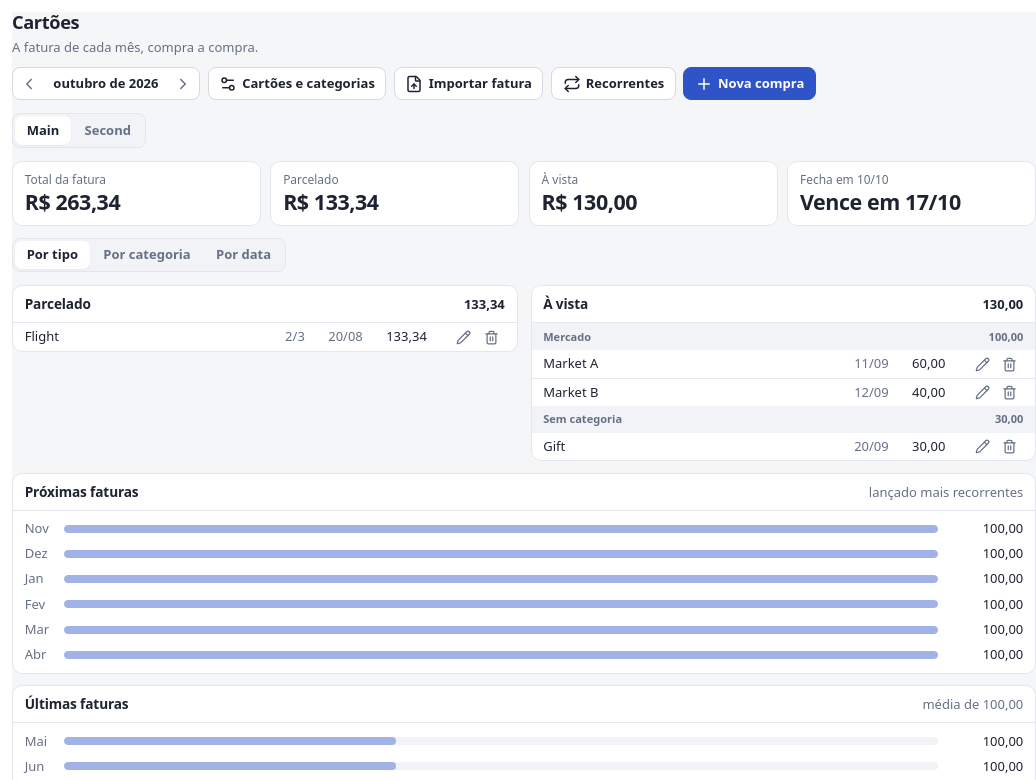
Scenario: CardsPage › walks through the invoices and keeps the month when the card changes
Expected: the element "Parcelado" is shown, [12, 285, 518, 352]
What coordinates should you click on to do the following:
click the button named "Próxima fatura"
I would click on:
 (183, 84)
Its box is [170, 70, 197, 97].
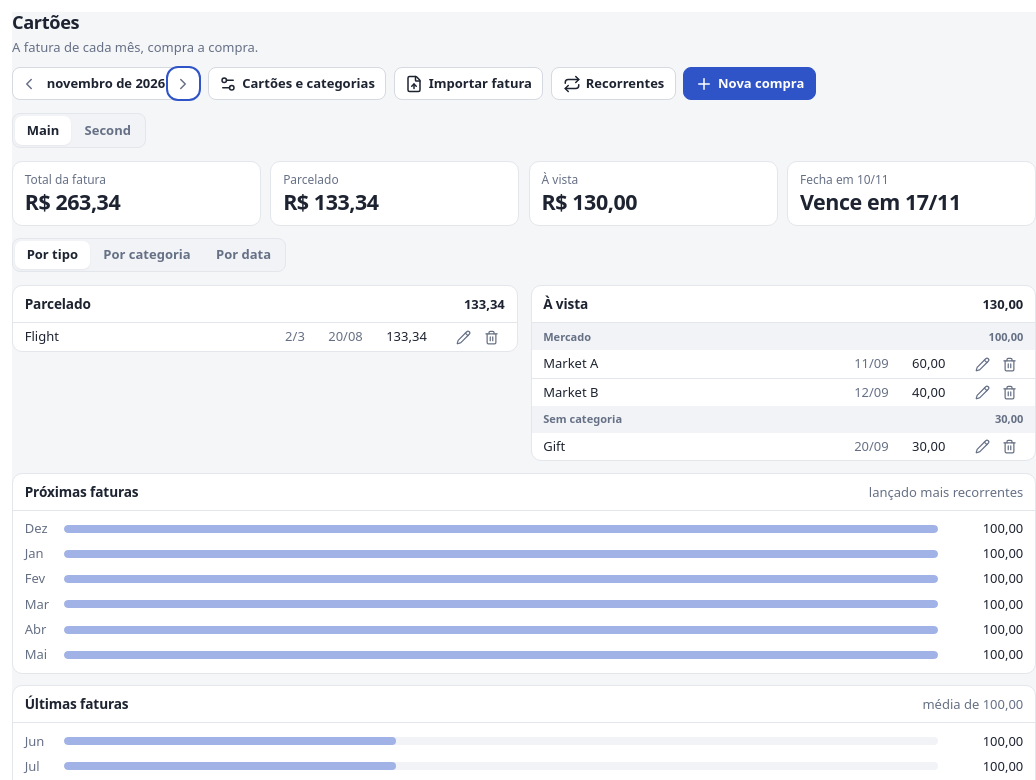
What coordinates should you click on to do the following:
click the tab "Second"
I would click on:
 (108, 130)
Its box is [73, 116, 143, 145].
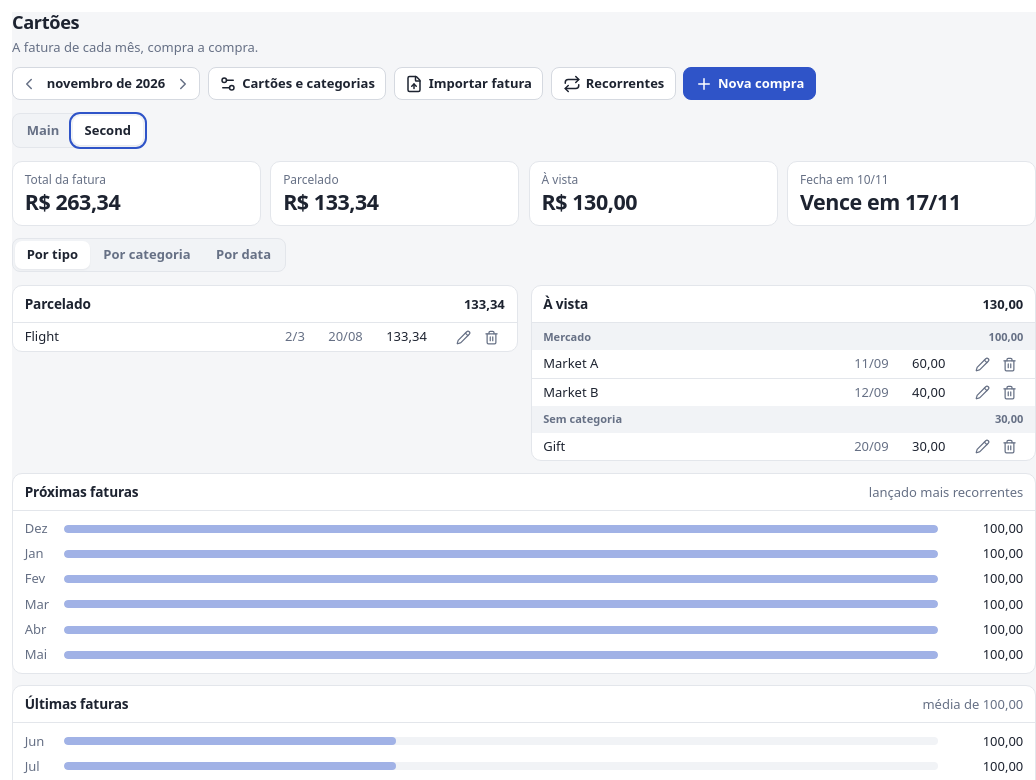
What coordinates should you click on to do the following:
click the button named "Fatura anterior"
I would click on:
 (29, 84)
Its box is [15, 70, 42, 97].
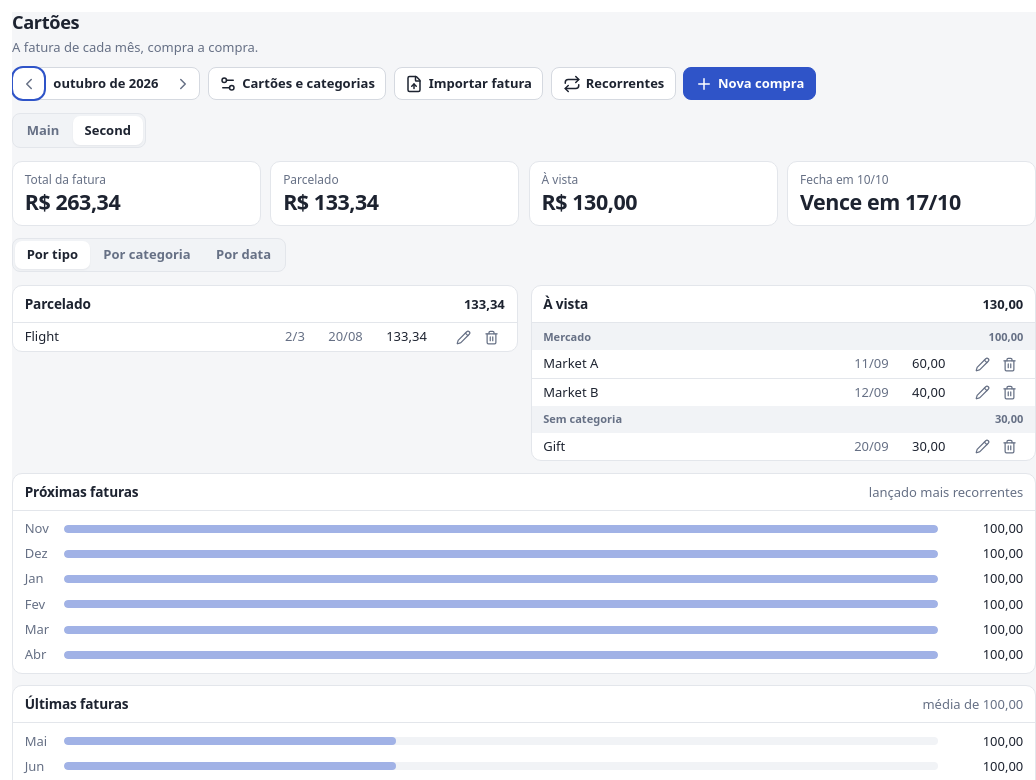
What coordinates should you click on to do the following:
click the button named "Fatura anterior"
I would click on:
 (29, 84)
Its box is [15, 70, 42, 97].
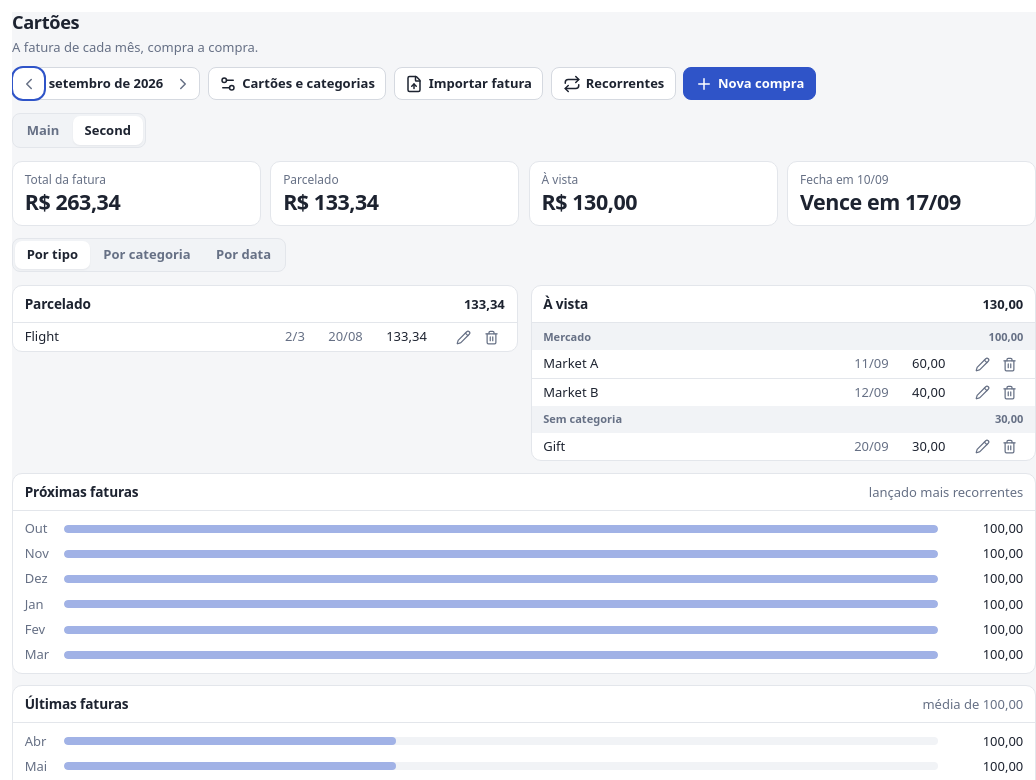
Now the text "setembro de 2026" is shown, box [44, 74, 168, 93]
